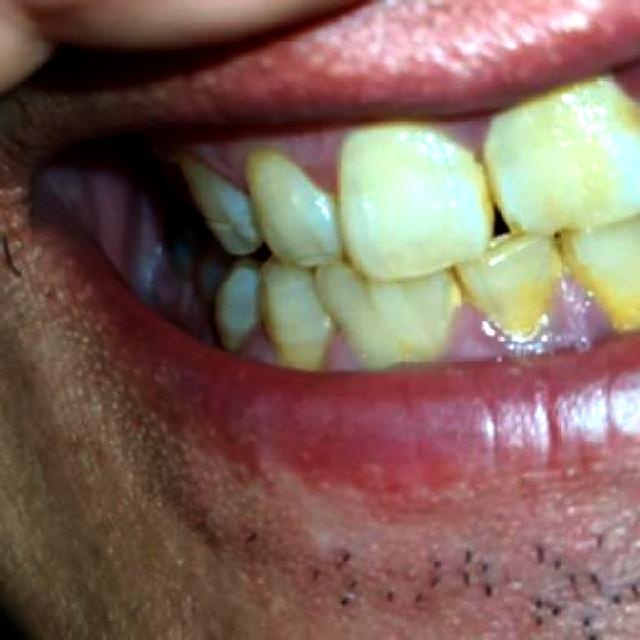Plaque: (438, 301, 530, 363), (531, 273, 609, 344)
